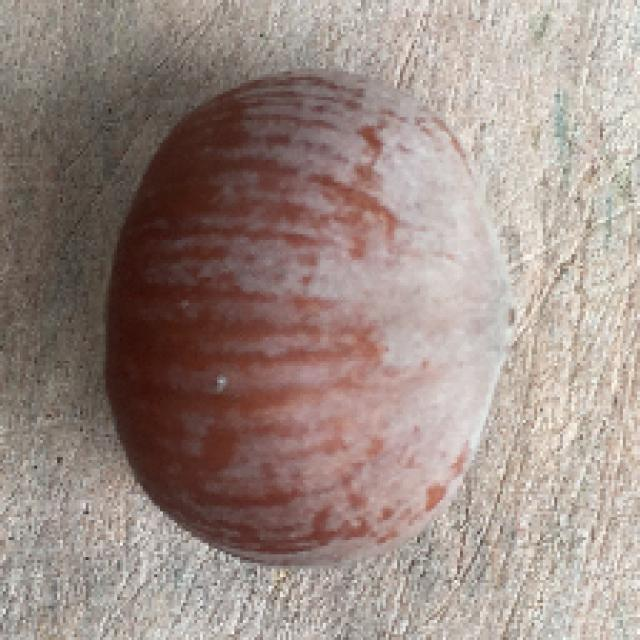qualityHazelnut: (110, 64, 521, 566)
